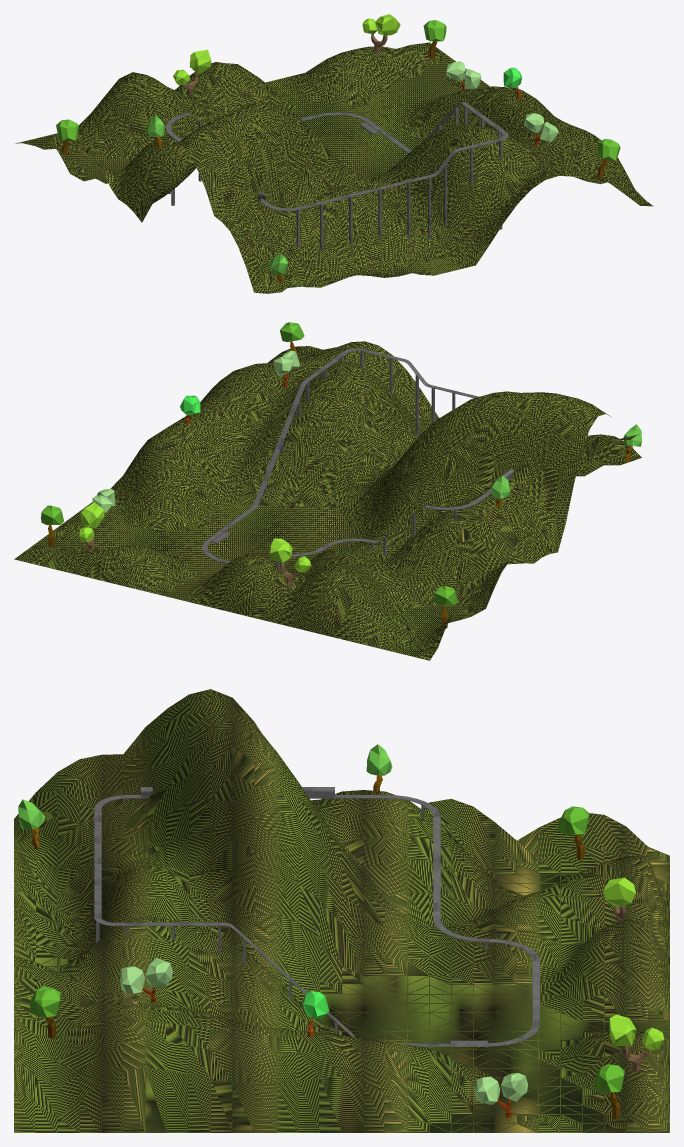
3 views of the same model, one above another, from view 1: azimuth 30°, elevation 25°; view 2: azimuth 150°, elevation 25°; view 3: azimuth 270°, elevation 25° (orthographic). The views are drawn at different scales.
Visible parts, largest first — view 1: BaseTerrain001, terrain, GeoSphere010, GeoSphere008; view 2: BaseTerrain001, terrain; view 3: BaseTerrain001, terrain, GeoSphere002 (×2), GeoSphere005, GeoSphere008, GeoSphere010.
Part boxes in pixels (<box>): BaseTerrain001: <box>15,42,653,293</box>; terrain: <box>165,102,508,252</box>; GeoSphere010: <box>423,20,446,41</box>; GeoSphere008: <box>189,49,211,74</box>; BaseTerrain001: <box>14,341,641,660</box>; terrain: <box>202,348,513,567</box>; BaseTerrain001: <box>14,689,669,1132</box>; terrain: <box>94,787,539,1047</box>; GeoSphere002 (×2): <box>558,806,636,1046</box>; GeoSphere005: <box>29,986,60,1017</box>; GeoSphere008: <box>603,877,635,906</box>; GeoSphere010: <box>593,1064,624,1092</box>.
Bounding box in the file's own units: 19685 × 6127 × 19685.
12 materials, 2 textured.
